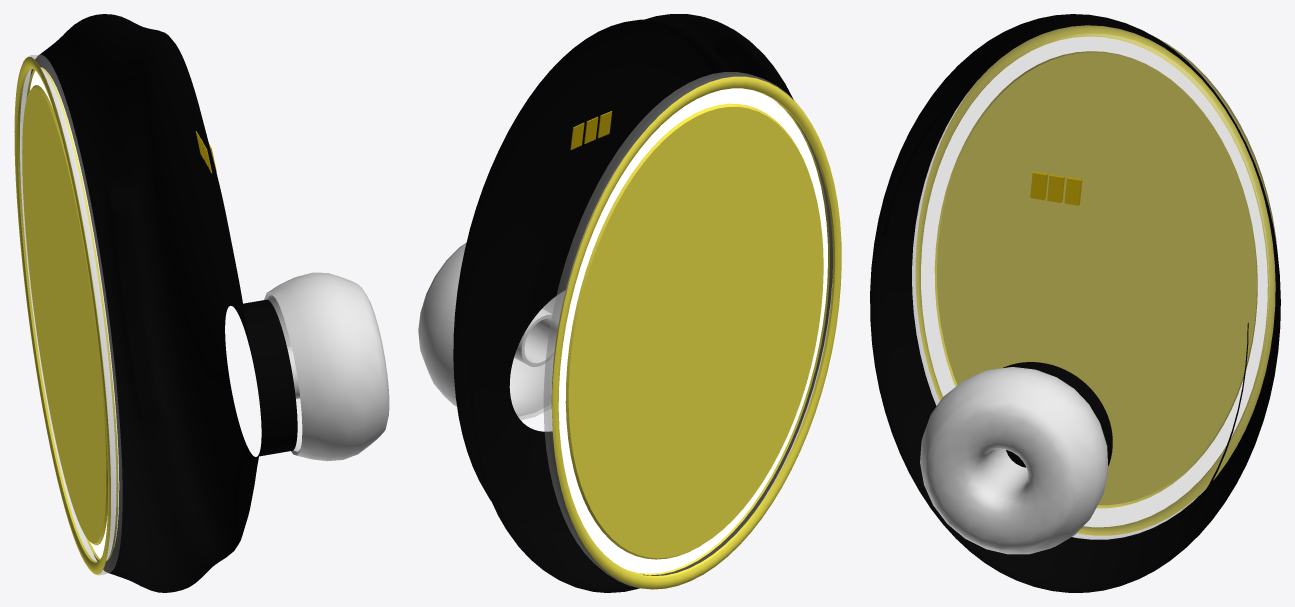
The model's file is earbuds.gltf.
3 renders of one model, left to right at view 1: azimuth 30°, elevation 25°; view 2: azimuth 150°, elevation 25°; view 3: azimuth 270°, elevation 25°, orthographic. The views are drawn at different scales.
Visible parts, largest first — view 1: Earbud1-secondary_color, Earbud1-rubber_1, Earbud1-Mat2, Earbud1-Mat, Earbud1-rubber_3, Earbud1-rubber_2, Earbud1-volume-slider, Earbud1-volume-slider_2, Earbud1-rubber, Earbud1-volume-slider_1; view 2: Earbud1-rubber_1, Earbud1-secondary_color, Earbud1-rubber_3, Earbud1-Mat2, Earbud1-Mat, Earbud1-volume-slider_2, Earbud1-volume-slider, Earbud1-rubber_2, Earbud1-rubber, Earbud1-volume-slider_1, Earbud1-white; view 3: Earbud1-Mat, Earbud1-rubber_1, Earbud1-secondary_color, Earbud1-Mat2, Earbud1-volume-slider_2, Earbud1-rubber_3, Earbud1-volume-slider, Earbud1-volume-slider_1, Earbud1-rubber_2, Earbud1-rubber, Earbud1-white.
Part boxes in pixels (left/top/right/bottom): Earbud1-secondary_color: left=30, top=14, right=297, bottom=592; Earbud1-rubber_1: left=22, top=87, right=106, bottom=543; Earbud1-Mat2: left=264, top=272, right=389, bottom=461; Earbud1-Mat: left=20, top=55, right=122, bottom=575; Earbud1-rubber_3: left=14, top=57, right=110, bottom=574; Earbud1-rubber_2: left=17, top=67, right=118, bottom=562; Earbud1-volume-slider: left=34, top=80, right=114, bottom=548; Earbud1-volume-slider_2: left=32, top=69, right=116, bottom=558; Earbud1-rubber: left=32, top=85, right=107, bottom=545; Earbud1-volume-slider_1: left=30, top=68, right=119, bottom=560; Earbud1-rubber_1: left=568, top=107, right=823, bottom=558; Earbud1-secondary_color: left=453, top=14, right=832, bottom=592; Earbud1-rubber_3: left=552, top=76, right=841, bottom=589; Earbud1-Mat2: left=418, top=242, right=565, bottom=419; Earbud1-Mat: left=543, top=72, right=832, bottom=589; Earbud1-volume-slider_2: left=558, top=88, right=826, bottom=570; Earbud1-volume-slider: left=560, top=97, right=811, bottom=561; Earbud1-rubber_2: left=551, top=88, right=834, bottom=577; Earbud1-rubber: left=565, top=103, right=812, bottom=559; Earbud1-volume-slider_1: left=609, top=91, right=827, bottom=573; Earbud1-white: left=570, top=111, right=612, bottom=149; Earbud1-Mat: left=912, top=25, right=1276, bottom=539; Earbud1-rubber_1: left=937, top=52, right=1256, bottom=505; Earbud1-secondary_color: left=870, top=14, right=1280, bottom=592; Earbud1-Mat2: left=920, top=367, right=1108, bottom=554; Earbud1-volume-slider_2: left=922, top=39, right=1265, bottom=525; Earbud1-rubber_3: left=915, top=25, right=1277, bottom=535; Earbud1-volume-slider: left=930, top=48, right=1259, bottom=514; Earbud1-volume-slider_1: left=921, top=36, right=1267, bottom=527; Earbud1-rubber_2: left=939, top=33, right=1270, bottom=519; Earbud1-rubber: left=934, top=51, right=1257, bottom=508; Earbud1-white: left=1030, top=171, right=1082, bottom=205.
Bounding box in the file's own units: 254 × 404 × 272.
